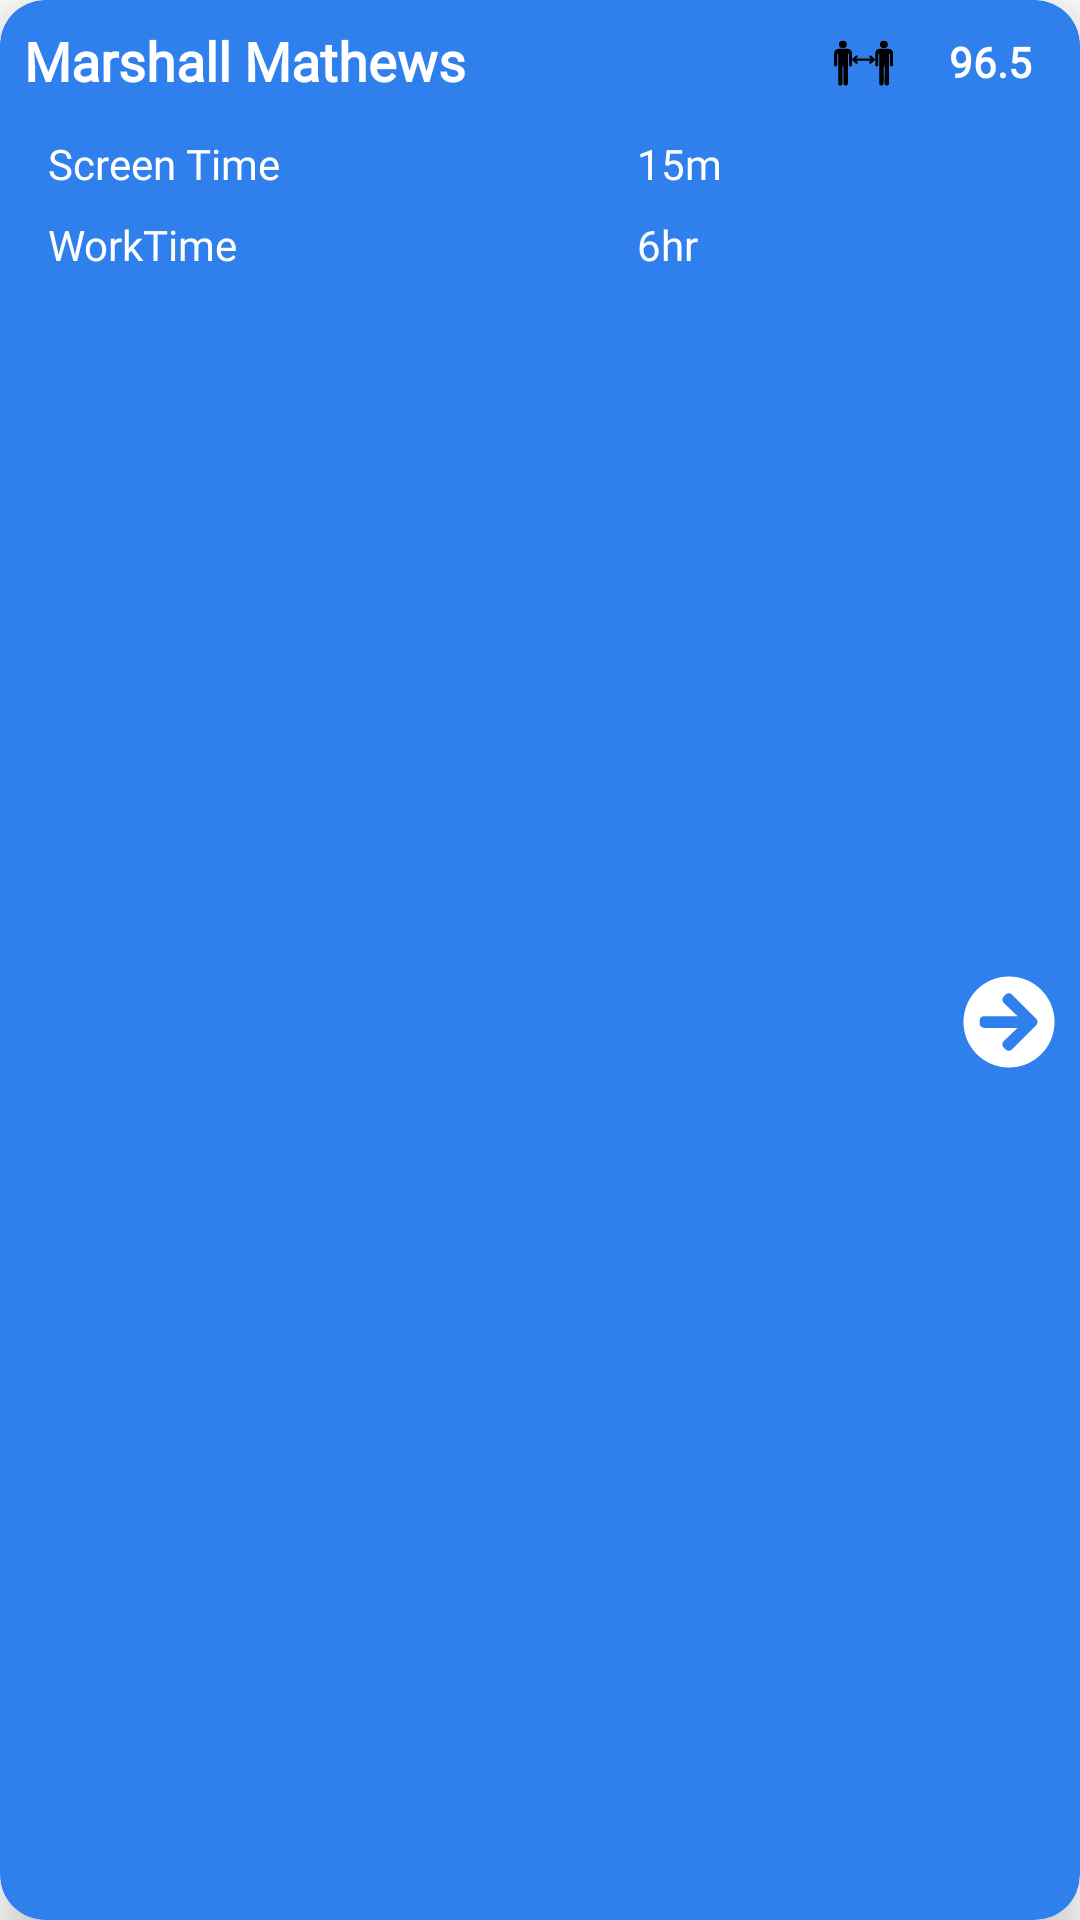

Where to tap for icons on this 1080x1920 app screen, as (x=x, y=y):
arrow circle right: (x=1009, y=1022)
